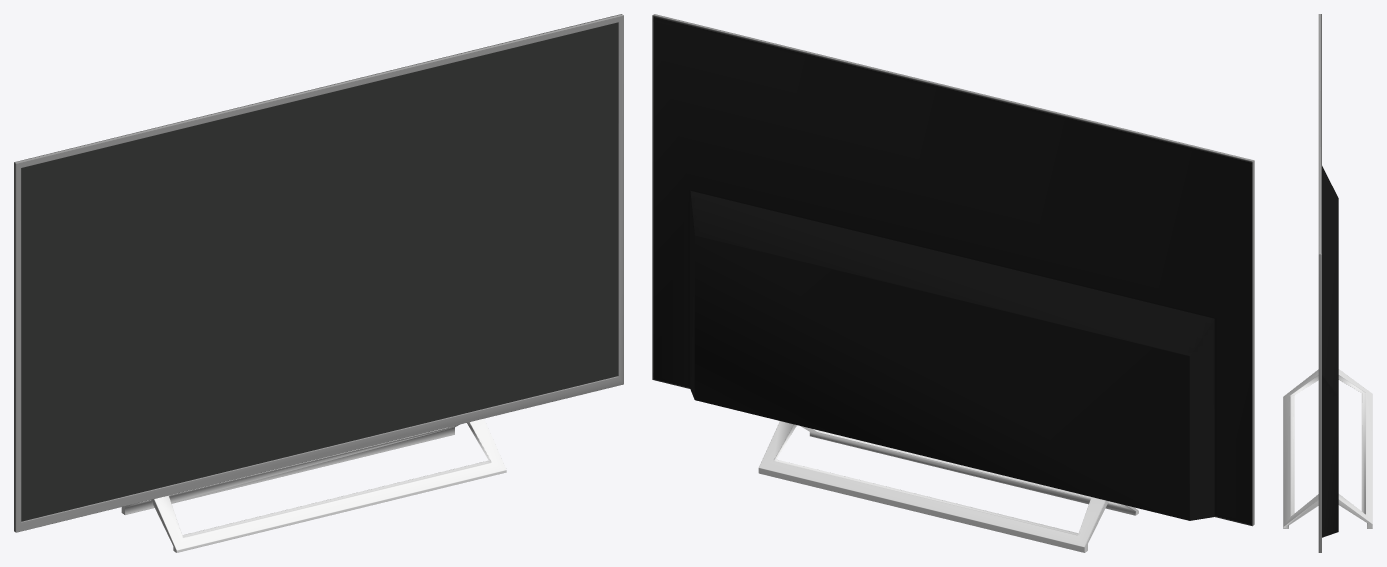
3 views of the same model, side by side, from view 1: azimuth 30°, elevation 25°; view 2: azimuth 150°, elevation 25°; view 3: azimuth 270°, elevation 25° (orthographic). The views are drawn at different scales.
Visible parts, largest first — view 1: SM_TV; view 2: SM_TV; view 3: SM_TV.
Part boxes in pixels (bbox=[...]): SM_TV: bbox=[14, 14, 623, 552]; SM_TV: bbox=[652, 14, 1254, 552]; SM_TV: bbox=[1283, 14, 1372, 552].
Bounding box in the file's own units: 1.5 × 0.9629 × 0.2361.
1 material, 1 textured.
